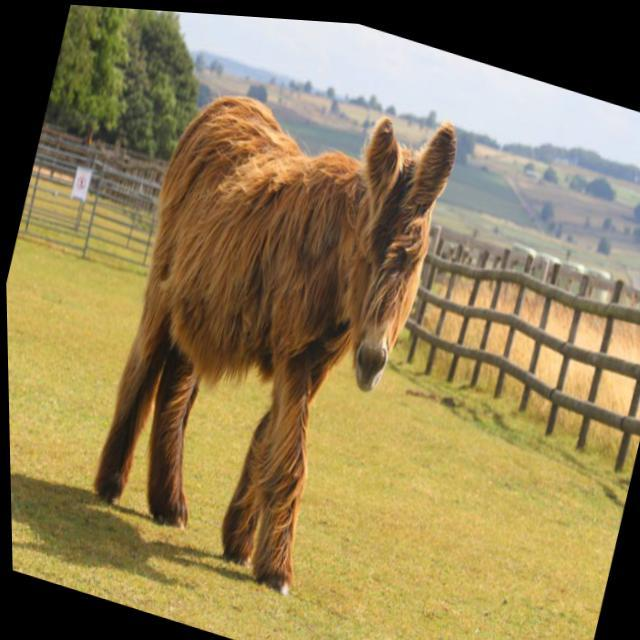Donkey: (65, 51, 492, 620), (302, 122, 483, 414)
